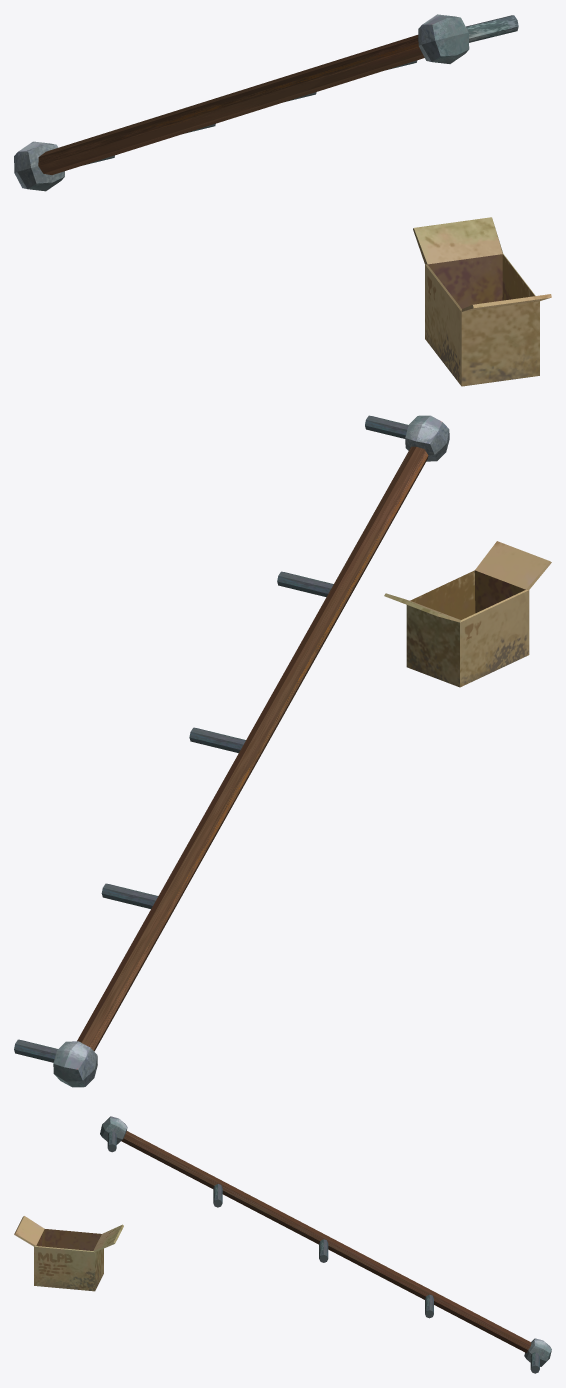
The picture shows the model from 3 angles, top to bottom: view 1: azimuth 30°, elevation 25°; view 2: azimuth 150°, elevation 25°; view 3: azimuth 270°, elevation 25°; orthographic projection. The views are drawn at different scales.
Visible parts, largest first — view 1: КОРОБКА С ГОВНОМ, ПАЛКА, ЯИЧКИ, ПАЛКИ; view 2: ПАЛКА, КОРОБКА С ГОВНОМ, ПАЛКИ, ЯИЧКИ; view 3: ПАЛКА, КОРОБКА С ГОВНОМ, ПАЛКИ, ЯИЧКИ.
Boxes of the visible parts, x1=… form: КОРОБКА С ГОВНОМ: x1=413, y1=217, x2=551, y2=386; ПАЛКА: x1=38, y1=35, x2=424, y2=174; ЯИЧКИ: x1=14, y1=14, x2=469, y2=191; ПАЛКИ: x1=84, y1=15, x2=518, y2=165; ПАЛКА: x1=77, y1=446, x2=428, y2=1051; КОРОБКА С ГОВНОМ: x1=384, y1=541, x2=551, y2=687; ПАЛКИ: x1=14, y1=415, x2=408, y2=1062; ЯИЧКИ: x1=53, y1=415, x2=449, y2=1087; ПАЛКА: x1=121, y1=1131, x2=531, y2=1353; КОРОБКА С ГОВНОМ: x1=14, y1=1216, x2=123, y2=1291; ПАЛКИ: x1=107, y1=1131, x2=539, y2=1373; ЯИЧКИ: x1=100, y1=1116, x2=551, y2=1366.
Size of the model in its own units: 58.59 by 210 by 414.
